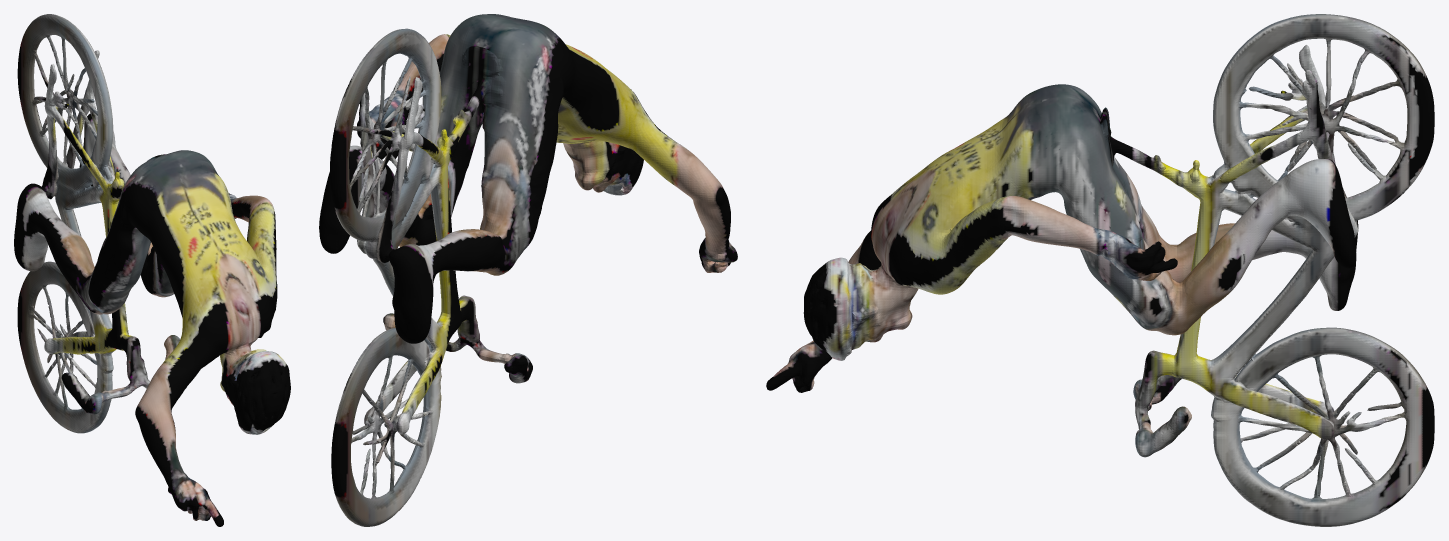
Rendered from Van_Aert_Sculpture_Pure.glb.
3 views of the same model, side by side, from view 1: azimuth 30°, elevation 25°; view 2: azimuth 150°, elevation 25°; view 3: azimuth 270°, elevation 25° (orthographic). The views are drawn at different scales.
Visible parts, largest first — view 1: Van_Aert_Hunyuan_Raw.glb; view 2: Van_Aert_Hunyuan_Raw.glb; view 3: Van_Aert_Hunyuan_Raw.glb.
Part boxes in pixels (x1,y1,x2,y2): Van_Aert_Hunyuan_Raw.glb: [14, 14, 290, 526]; Van_Aert_Hunyuan_Raw.glb: [319, 14, 737, 526]; Van_Aert_Hunyuan_Raw.glb: [766, 14, 1434, 526].
Size of the model in its own units: 57.34 by 110 by 130.
